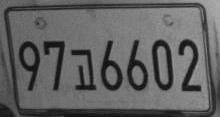0: (151, 38, 174, 90)
2: (177, 37, 202, 92)
6: (100, 39, 123, 92), (126, 39, 149, 91)
7: (42, 40, 65, 91)
9: (17, 40, 41, 91)
고: (71, 48, 96, 90)
